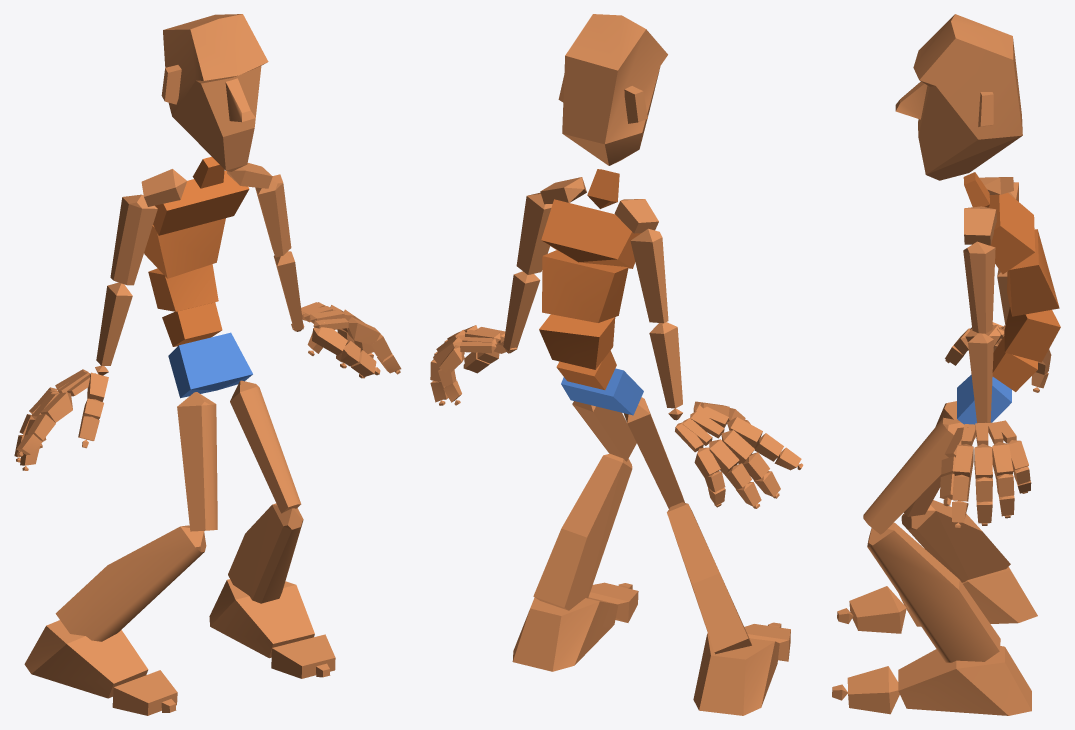
3 views of the same model, side by side, from view 1: azimuth 30°, elevation 25°; view 2: azimuth 150°, elevation 25°; view 3: azimuth 270°, elevation 25° (orthographic). The views are drawn at different scales.
Visible parts, largest first — view 1: BOPED_Head, BOPED_R_leg, BOPED_R_foot, BOPED_R_foot01, BOPED_L_leg, BOPED_R_legup, BOPED_L_legup, Bone01, Bone05, Bone04, BOPED_R_arm_upper, Bone03 (+10 smaller); view 2: BOPED_Head, BOPED_L_leg, BOPED_R_foot01, BOPED_R_foot, BOPED_R_leg, Bone04, Bone05, Bone03, BOPED_R_arm_upper, BOPED_R_legup, Bone01, BOPED_R_arm_fore (+11 smaller); view 3: BOPED_Head, BOPED_L_leg, BOPED_R_foot01, BOPED_R_leg, BOPED_L_legup, BOPED_R_foot, Bone05, Bone04, BOPED_L_arm_upper, Bone03, BOPED_R_foot_toe01, BOPED_R_foot_toe04 (+15 smaller).
Part boxes in pixels (x1,y1,x2,y2): BOPED_Head: (161,14,268,171); BOPED_R_leg: (55,525,206,641); BOPED_R_foot: (24,620,148,698); BOPED_R_foot01: (209,579,314,658); BOPED_L_leg: (228,503,303,603); BOPED_R_legup: (177,392,217,531); BOPED_L_legup: (230,380,301,513); Bone01: (168,332,252,398); Bone05: (153,170,249,235); Bone04: (144,218,225,278); BOPED_R_arm_upper: (110,194,157,285); Bone03: (148,264,218,311); BOPED_Head: (558,14,667,165); BOPED_L_leg: (533,453,632,610); BOPED_R_foot01: (512,597,618,671); BOPED_R_foot: (693,633,779,715); BOPED_R_leg: (667,502,751,654); Bone04: (542,250,628,322); Bone05: (541,199,641,268); Bone03: (539,314,615,369); BOPED_R_arm_upper: (630,228,668,323); BOPED_R_legup: (624,397,684,508); Bone01: (561,368,643,415); BOPED_R_arm_fore: (649,322,682,408); BOPED_Head: (895,14,1022,180); BOPED_L_leg: (867,522,1000,662); BOPED_R_foot01: (898,646,1031,715); BOPED_R_leg: (901,500,1010,582); BOPED_L_legup: (863,417,964,534); BOPED_R_foot: (898,567,1037,626); Bone05: (988,192,1035,274); Bone04: (1007,229,1059,316); BOPED_L_arm_upper: (963,241,995,333); Bone03: (1004,307,1060,362); BOPED_R_foot_toe01: (849,586,906,633); BOPED_R_foot_toe04: (847,666,899,714).
Size of the model in its own units: 111 by 178 by 56.5.
